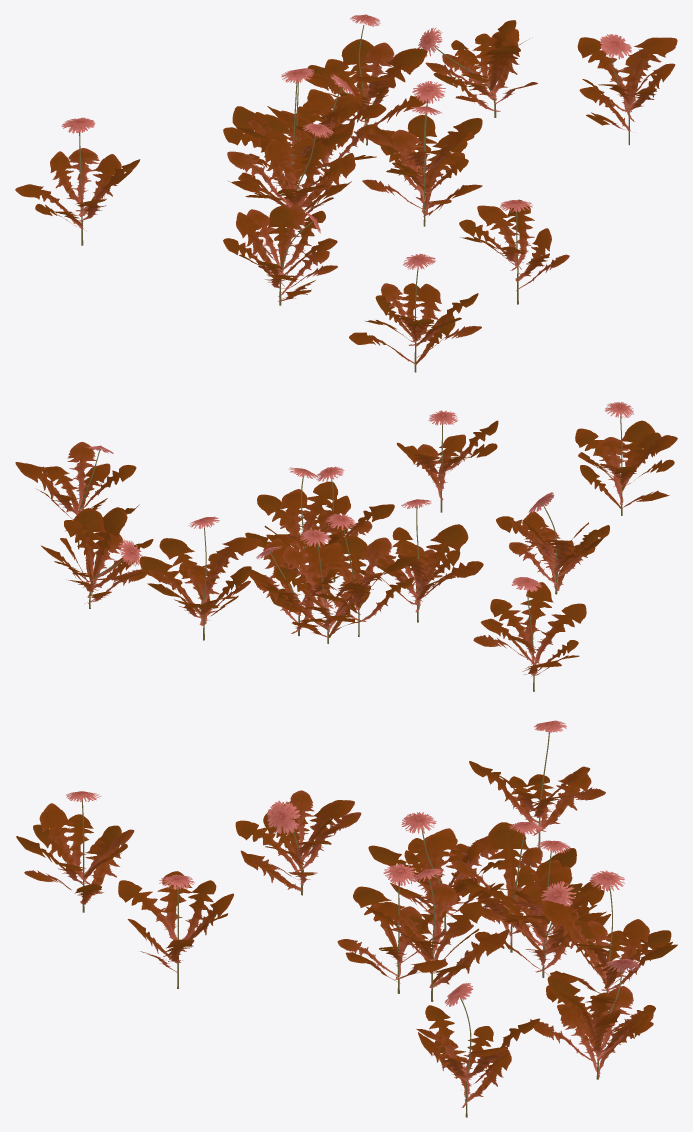
The picture shows the model from 3 angles, top to bottom: view 1: azimuth 30°, elevation 25°; view 2: azimuth 150°, elevation 25°; view 3: azimuth 270°, elevation 25°; orthographic projection. The views are drawn at different scales.
Parts seen in each view (by area): view 1: SM_DR_Dandelion_04_LOD0; view 2: SM_DR_Dandelion_04_LOD0; view 3: SM_DR_Dandelion_04_LOD0.
Boxes of the visible parts, box(x1,y1,x2,y2) form: SM_DR_Dandelion_04_LOD0: box(15, 14, 677, 372); SM_DR_Dandelion_04_LOD0: box(15, 402, 677, 691); SM_DR_Dandelion_04_LOD0: box(16, 720, 677, 1117).
Size of the model in its own units: 1.29 by 0.2576 by 1.12.
1 material, 1 textured.
